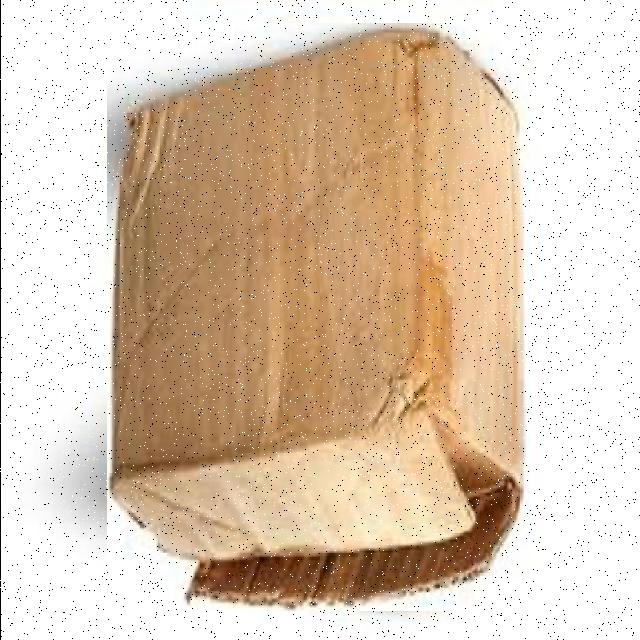defect: (106, 23, 529, 611)
